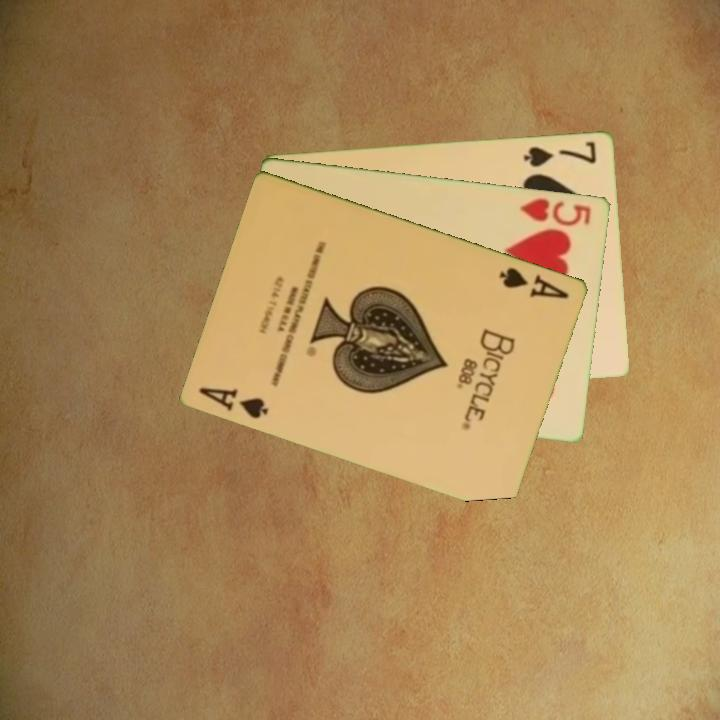5h: (517, 194, 595, 229)
7s: (520, 138, 600, 170)
As: (496, 263, 572, 302), (196, 383, 272, 421)
